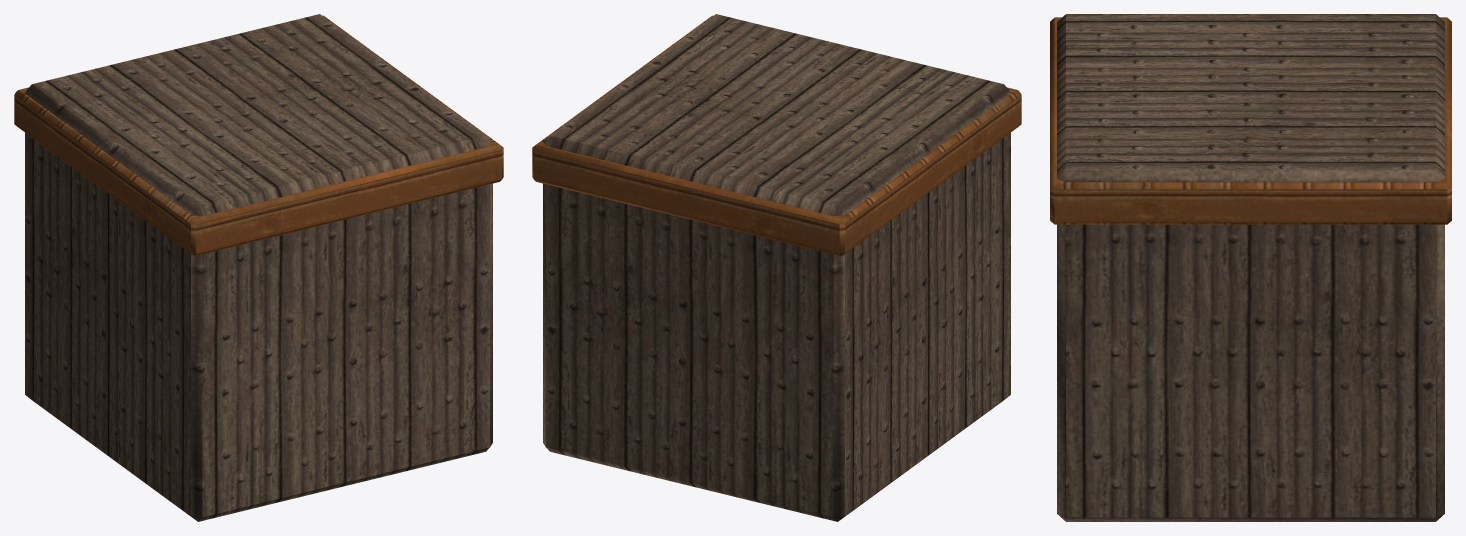
Rendered from prop_crate.glb.
The picture shows the model from 3 angles, left to right: view 1: azimuth 30°, elevation 25°; view 2: azimuth 150°, elevation 25°; view 3: azimuth 270°, elevation 25°; orthographic projection. The views are drawn at different scales.
Visible parts, largest first — view 1: PROP_Crate; view 2: PROP_Crate; view 3: PROP_Crate.
Part boxes in pixels (x1,y1,x2,y2): PROP_Crate: (14, 14, 503, 521); PROP_Crate: (532, 14, 1021, 521); PROP_Crate: (1050, 14, 1451, 521).
Bounding box in the file's own units: 0.88 × 0.85 × 0.88.
2 materials, 2 textured.
